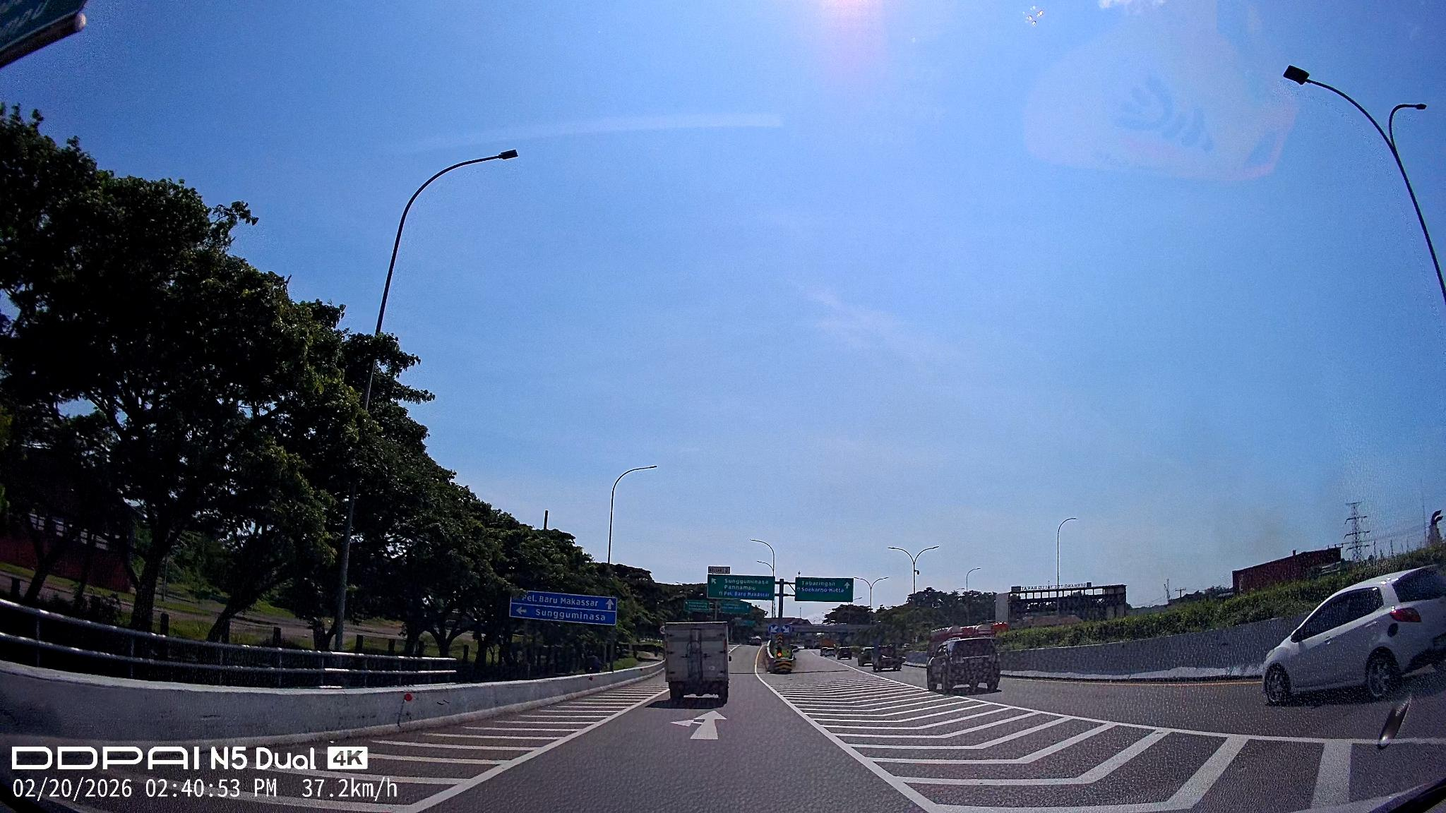rambu_teks: (707, 574, 775, 600), (796, 577, 854, 603)
